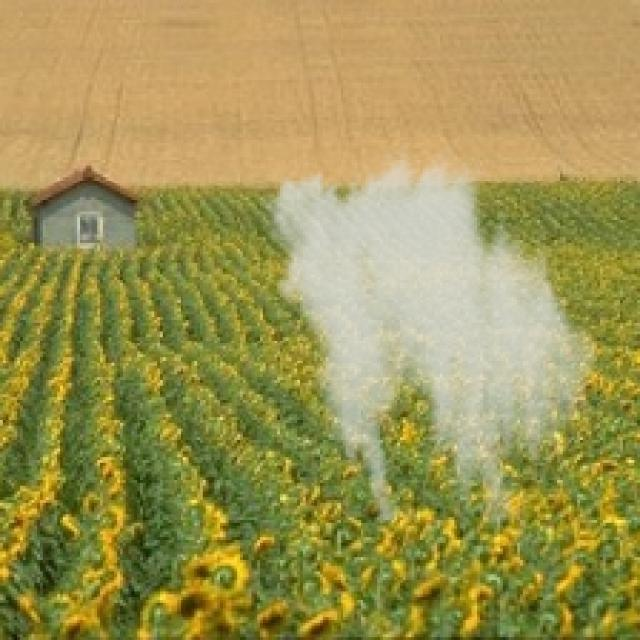Smoke: (252, 143, 608, 523)
